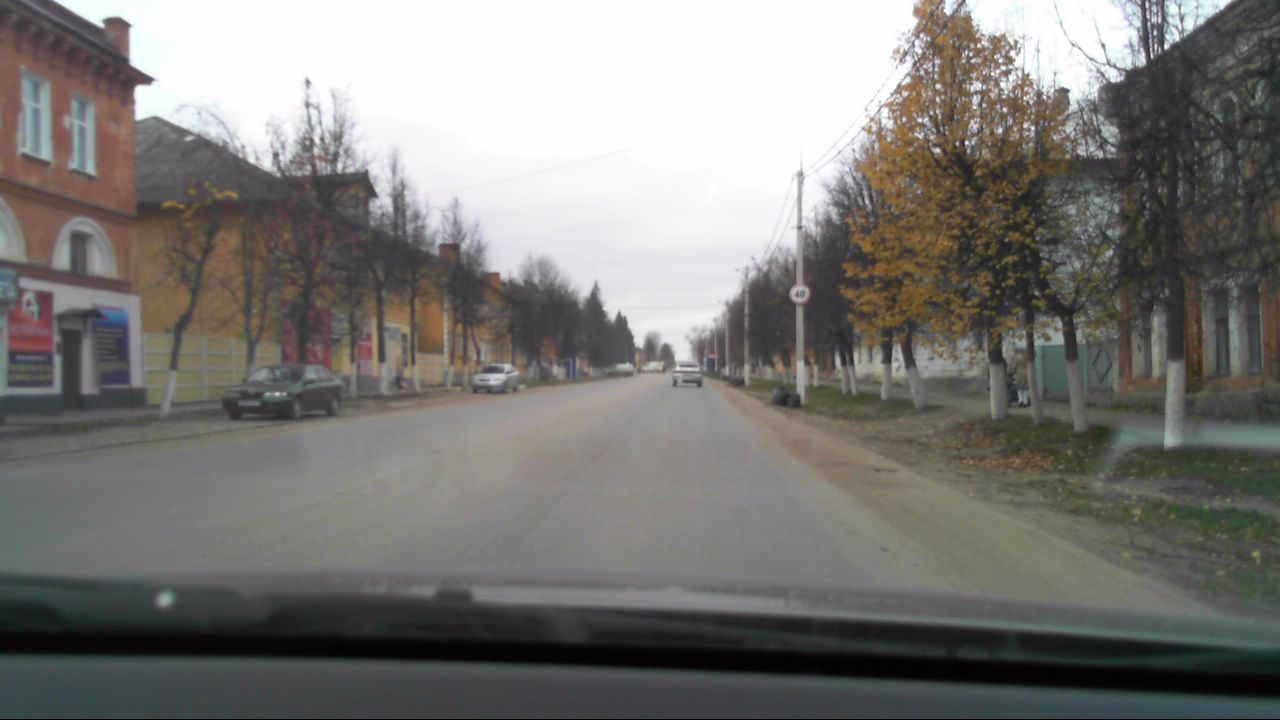speed_warning_40: (787, 283, 809, 305)
